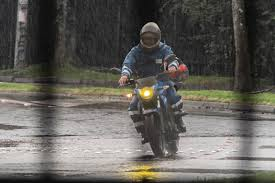motorcycle: (108, 63, 191, 155)
